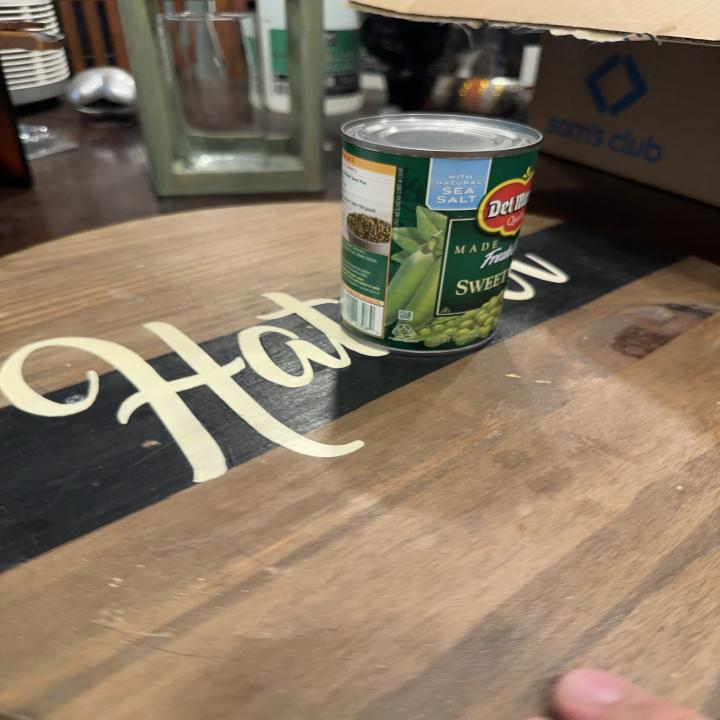Canned-Peas: (338, 112, 550, 356)
